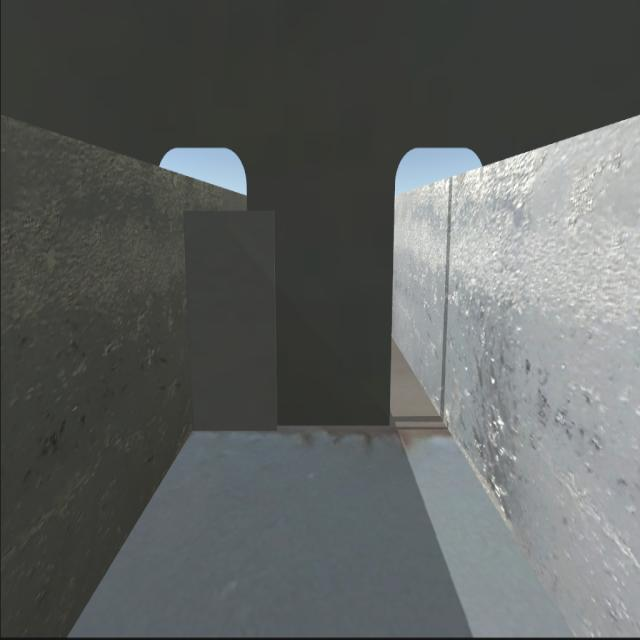fillet_yong_jeop_jang: (194, 422, 391, 431)
longi_yong_jeop_jang: (178, 209, 197, 427)
plate_CP01: (187, 211, 283, 429)
